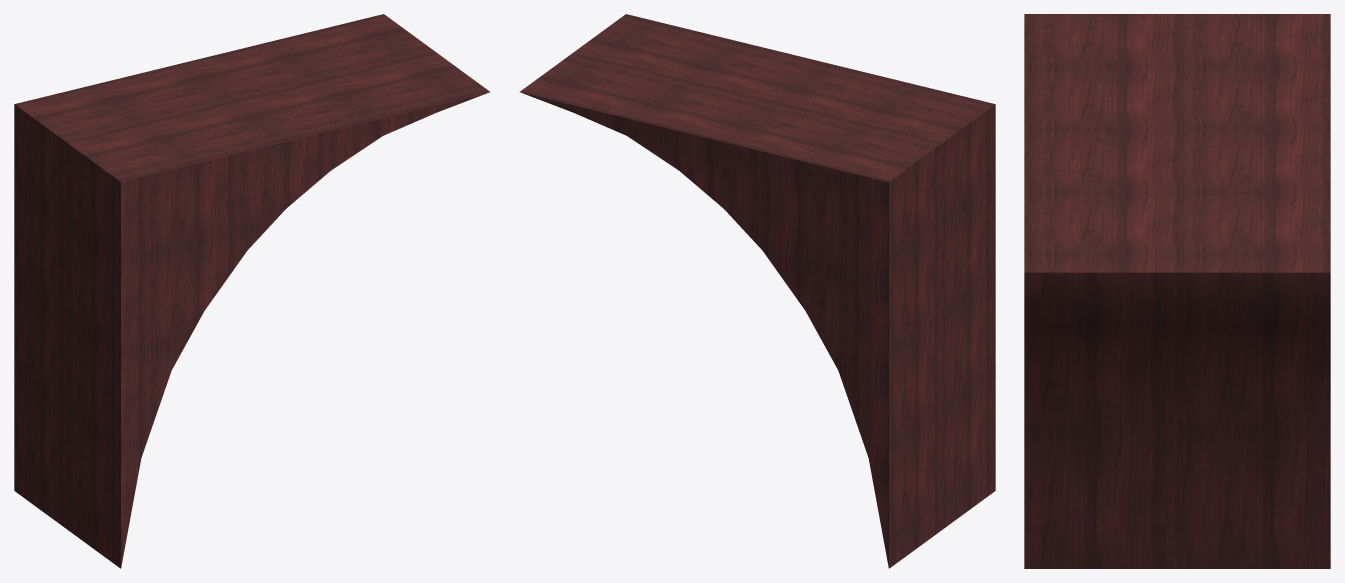
The model's file is SmallArchV2.fbx.
3 renders of one model, left to right at view 1: azimuth 30°, elevation 25°; view 2: azimuth 150°, elevation 25°; view 3: azimuth 270°, elevation 25°, orthographic. The views are drawn at different scales.
Visible parts, largest first — view 1: SmallArch; view 2: SmallArch; view 3: SmallArch.
Part boxes in pixels (bbox=[...]): SmallArch: bbox=[14, 14, 489, 568]; SmallArch: bbox=[520, 14, 995, 568]; SmallArch: bbox=[1024, 14, 1330, 568].
Bounding box in the file's own units: 2 × 2 × 1.
